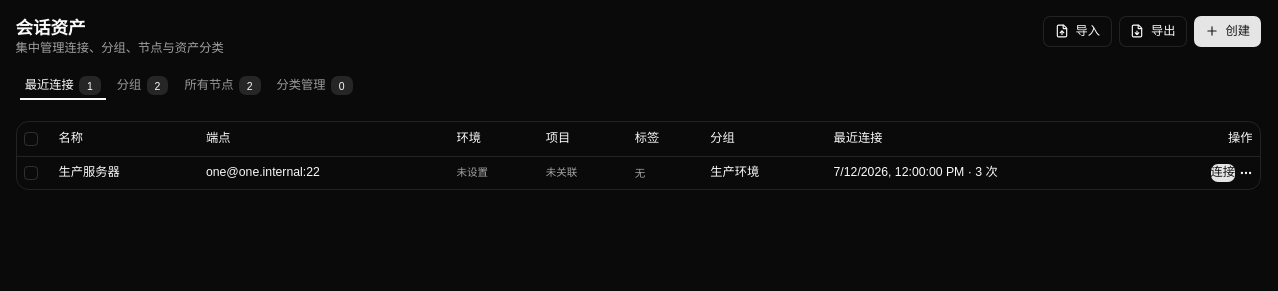
SessionAssetCenter behavior › shows set-default failures as asset-center banner without toast
What coordinates should you click on to do the following:
click the tab "分组 2"
I would click on:
 (143, 86)
Its box is [111,75,175,96].
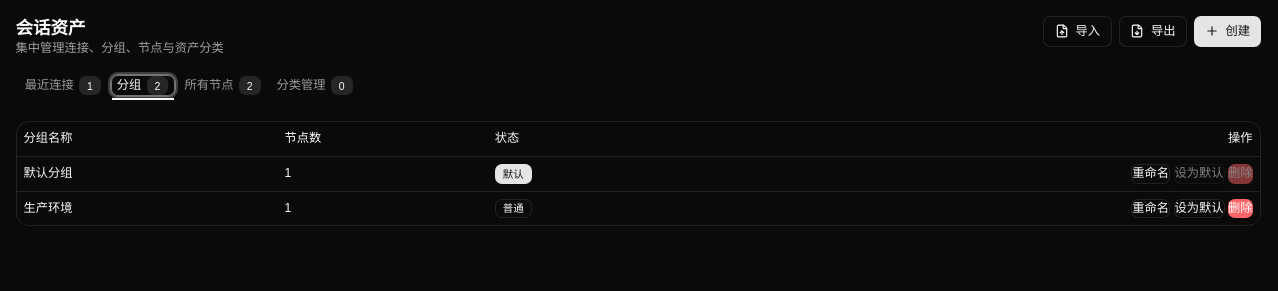
What coordinates should you click on to do the following:
click the button "设为默认" in the row of "普通"
I would click on:
 (1199, 208)
Its box is [1174,198,1224,218].
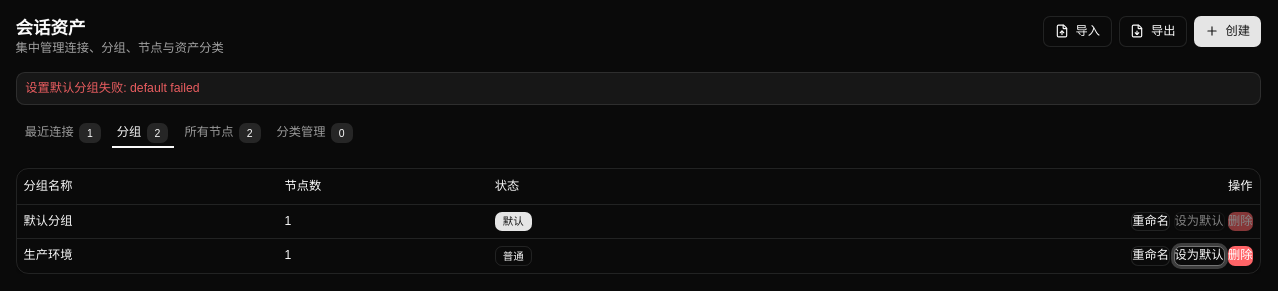
Expected: the message reads "设置默认分组失败: default failed", [25,80,200,94]
